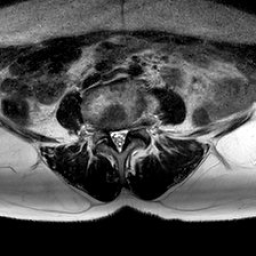CCS_normal: (115, 120, 122, 160)
LFS_stenosis: (129, 114, 137, 140)
LLS_normal: (122, 118, 129, 148)
RFS_severe_stenosis: (100, 116, 108, 142)
RLS_normal: (108, 121, 115, 149)
